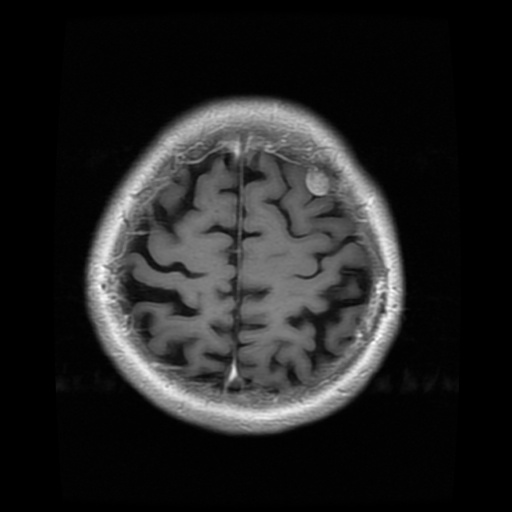meningioma: (305, 165, 330, 195)
